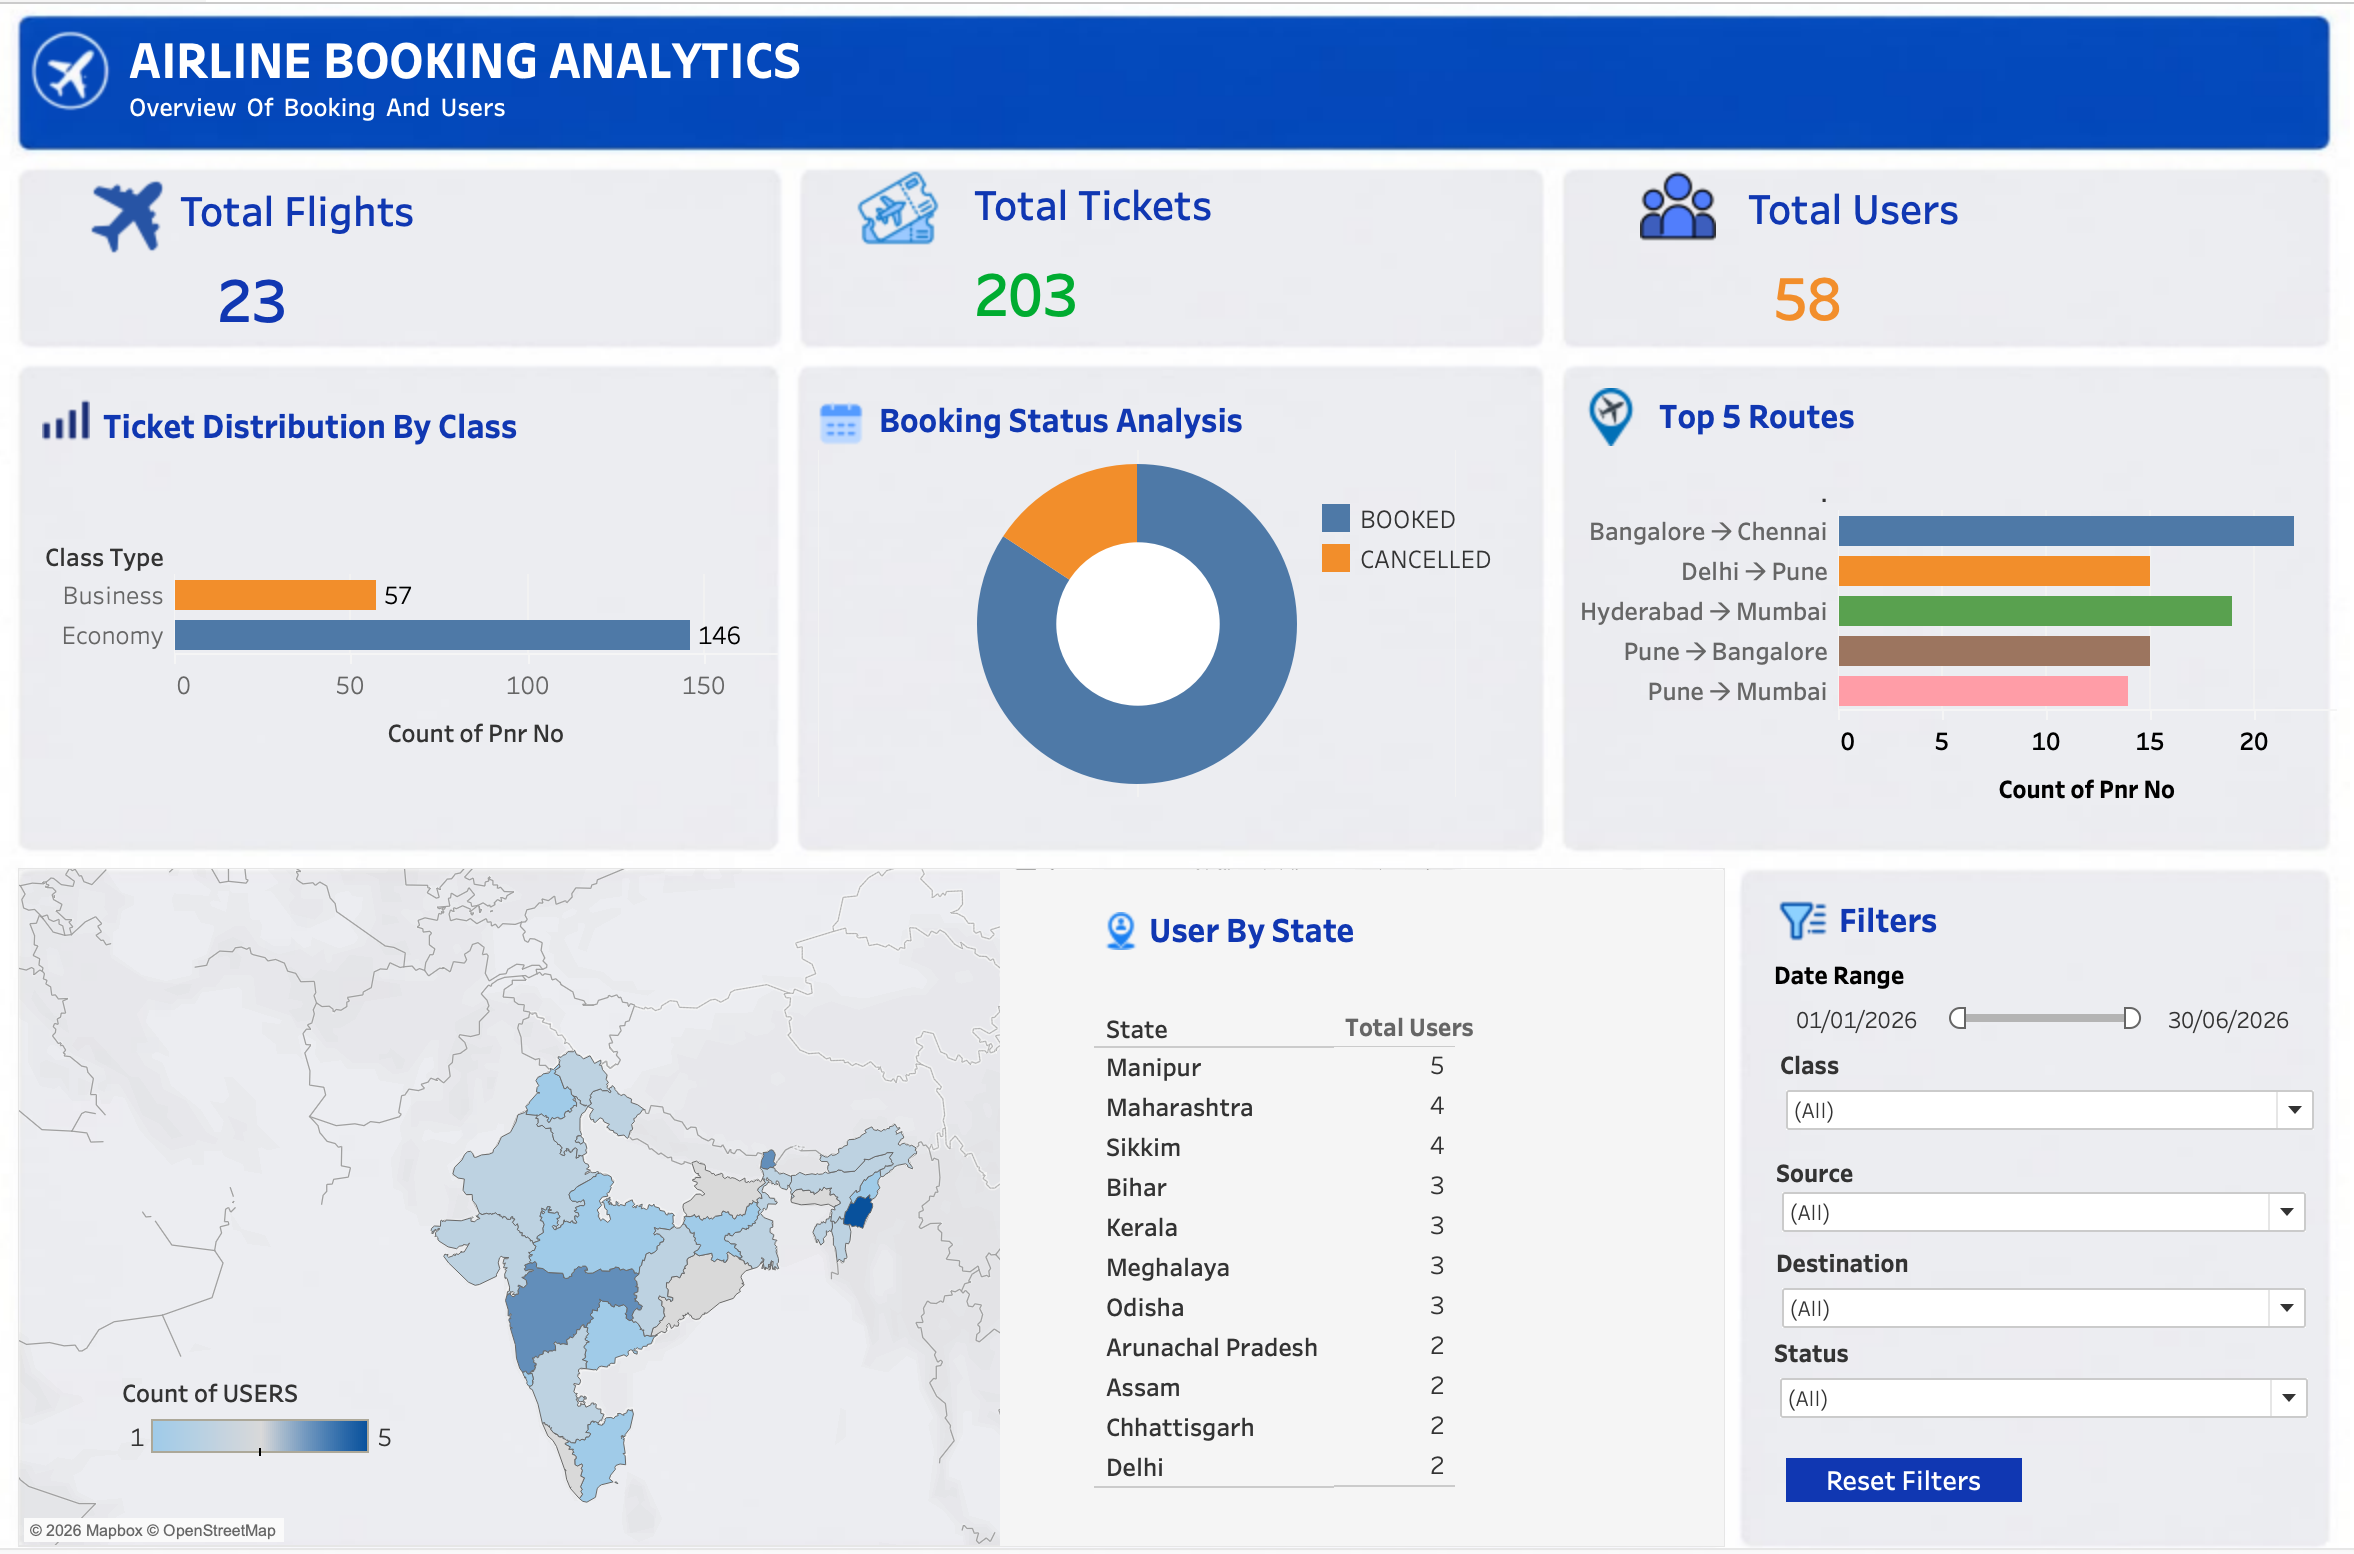

What the dashboard file says about the page in this screenshot:
{"tool":"tableau","page":{"name":"Dashboard Reset","canvas":[1200,900],"ordinal":2},"visuals":[{"type":"image","param":"/Users/vasu/Desktop/genreric.jpeg","box":[8,8,1184,884]},{"type":"text","box":[75,72,342,50]},{"type":"worksheet","title":"Total Tickets","mark":"Automatic","box":[484,145,282,117]},{"type":"worksheet","title":"Total Users","mark":"Text","box":[890,145,242,91]},{"type":"worksheet","title":"Total Flights","mark":"Text","box":[111,147,290,84]},{"type":"worksheet","title":"Booking Status Analysis","mark":"Pie","cols":["Calculation_6315671824396297","Calculation_6315671824396297"],"box":[465,232,319,263]},{"type":"text","box":[421,253,151,79]},{"type":"text","box":[837,267,100,30]},{"type":"text","box":[87,276,213,30]},{"type":"worksheet","title":"Top Routes","mark":"Automatic","rows":["Calculation_6315671778500615"],"cols":["PNR_NO"],"box":[792,294,400,257]},{"type":"worksheet","title":"Ticket Distribution by Class","mark":"Automatic","rows":["CLASS_TYPE"],"cols":["PNR_NO"],"box":[24,326,378,151]},{"type":"worksheet","title":"Users by State","mark":"Automatic","box":[22,493,854,340]},{"type":"text","box":[930,504,103,29]},{"type":"filter","title":"Dashboard Filters","param":"[federated.16w5oax0h93u0a1fog3uh1985npj].[none:DATE_TIME:qk]","box":[900,538,271,54]},{"type":"filter","title":"Ticket Distribution by Class","param":"[federated.16w5oax0h93u0a1fog3uh1985npj].[none:CLASS_TYPE:nk]","box":[903,583,270,74]},{"type":"filter","title":"Dashboard Filters","param":"[federated.16w5oax0h93u0a1fog3uh1985npj].[none:SOURCE:nk]","box":[901,637,268,39]},{"type":"filter","title":"Top Routes","param":"[federated.16w5oax0h93u0a1fog3uh1985npj].[none:DESTINATION:nk]","box":[901,682,268,50]},{"type":"filter","title":"Booking Status Analysis","param":"[federated.16w5oax0h93u0a1fog3uh1985npj].[none:STATUS:nk]","box":[900,727,270,49]},{"type":"legend","title":"Users by State","param":"[federated.16w5oax0h93u0a1fog3uh1985npj].[__tableau_internal_object_id__].[cnt:U","box":[337,753,140,76]},{"type":"dashboard-object","box":[660,834,24,24]}]}

Visuals, with their boxes on the page's 1200x900 design canvas (x1, y1, x2, y2). These are canvas units, not pixel positions in the 2354x1554 screenshot, which may show the page scaled, cropped or inside an application window:
image: bbox=(8, 8, 1192, 892)
text: bbox=(75, 72, 417, 122)
"Total Tickets" worksheet: bbox=(484, 145, 766, 262)
"Total Users" worksheet (Text marks): bbox=(890, 145, 1132, 236)
"Total Flights" worksheet (Text marks): bbox=(111, 147, 401, 231)
"Booking Status Analysis" worksheet (Pie marks): bbox=(465, 232, 784, 495)
text: bbox=(421, 253, 572, 332)
text: bbox=(837, 267, 937, 297)
text: bbox=(87, 276, 300, 306)
"Top Routes" worksheet: bbox=(792, 294, 1192, 551)
"Ticket Distribution by Class" worksheet: bbox=(24, 326, 402, 477)
"Users by State" worksheet: bbox=(22, 493, 876, 833)
text: bbox=(930, 504, 1033, 533)
"Dashboard Filters" filter: bbox=(900, 538, 1171, 592)
"Ticket Distribution by Class" filter: bbox=(903, 583, 1173, 657)
"Dashboard Filters" filter: bbox=(901, 637, 1169, 676)
"Top Routes" filter: bbox=(901, 682, 1169, 732)
"Booking Status Analysis" filter: bbox=(900, 727, 1170, 776)
"Users by State" legend: bbox=(337, 753, 477, 829)
dashboard-object: bbox=(660, 834, 684, 858)
